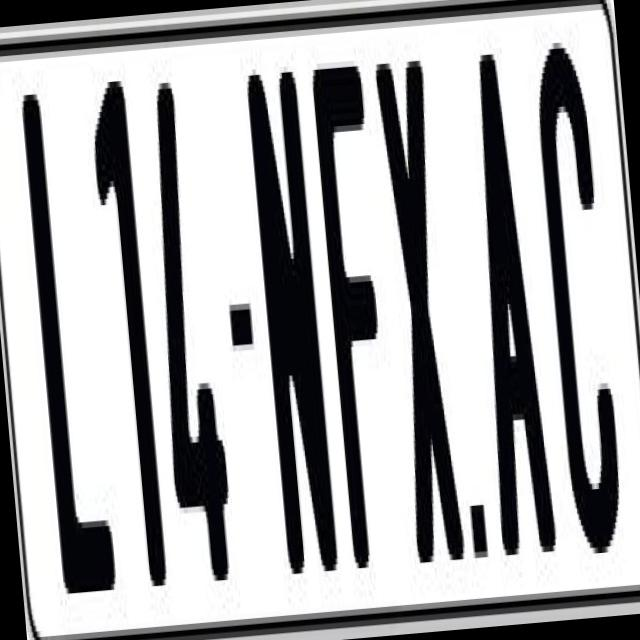1: (86, 74, 165, 594)
4: (138, 80, 238, 618)
A: (456, 34, 560, 538)
C: (528, 40, 626, 567)
F: (306, 60, 400, 586)
L: (18, 90, 116, 594)
N: (245, 52, 346, 580)
X: (374, 59, 474, 592)
